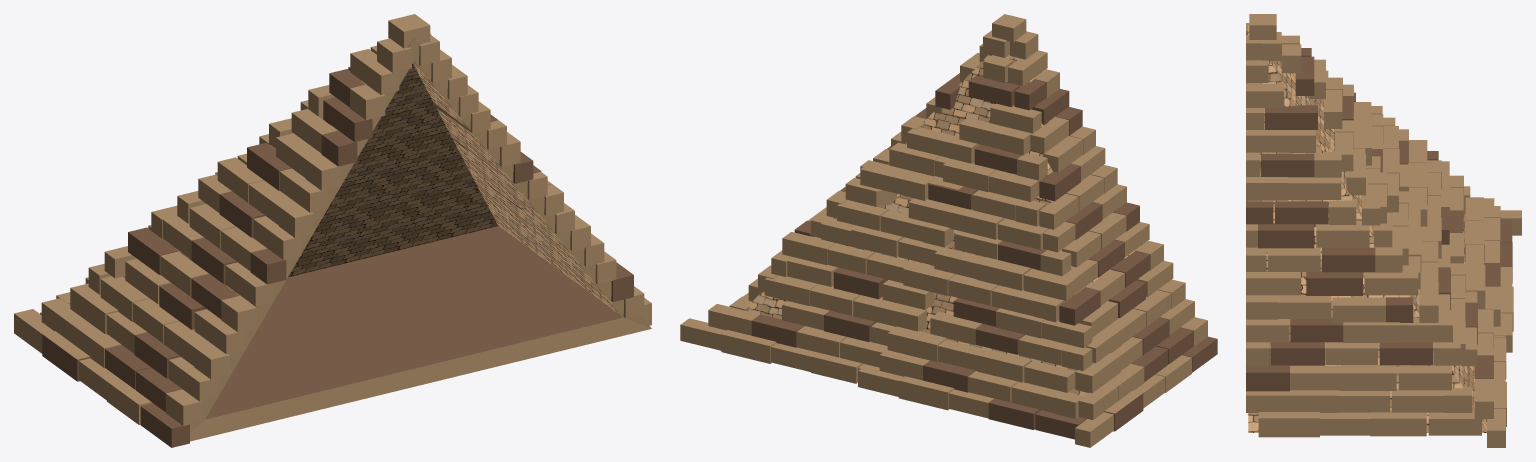
The picture shows the model from 3 angles, left to right: view 1: azimuth 30°, elevation 25°; view 2: azimuth 150°, elevation 25°; view 3: azimuth 270°, elevation 25°; orthographic projection. The views are drawn at different scales.
Visible parts, largest first — view 1: inside, left, right, back; view 2: back, left, inside, right; view 3: right, back, inside, left.
Boxes of the visible parts, x1,y1,x2,y2 form: inside: (123, 37, 651, 441); left: (14, 35, 439, 447); right: (431, 49, 651, 325); back: (40, 14, 431, 314); back: (680, 14, 1092, 439); left: (988, 31, 1217, 447); inside: (748, 54, 1145, 395); right: (729, 44, 987, 311); right: (1246, 60, 1481, 437); back: (1249, 14, 1513, 447); inside: (1248, 25, 1486, 432); left: (1246, 23, 1521, 235).
Bounding box in the file's own units: 217 × 145 × 115.
